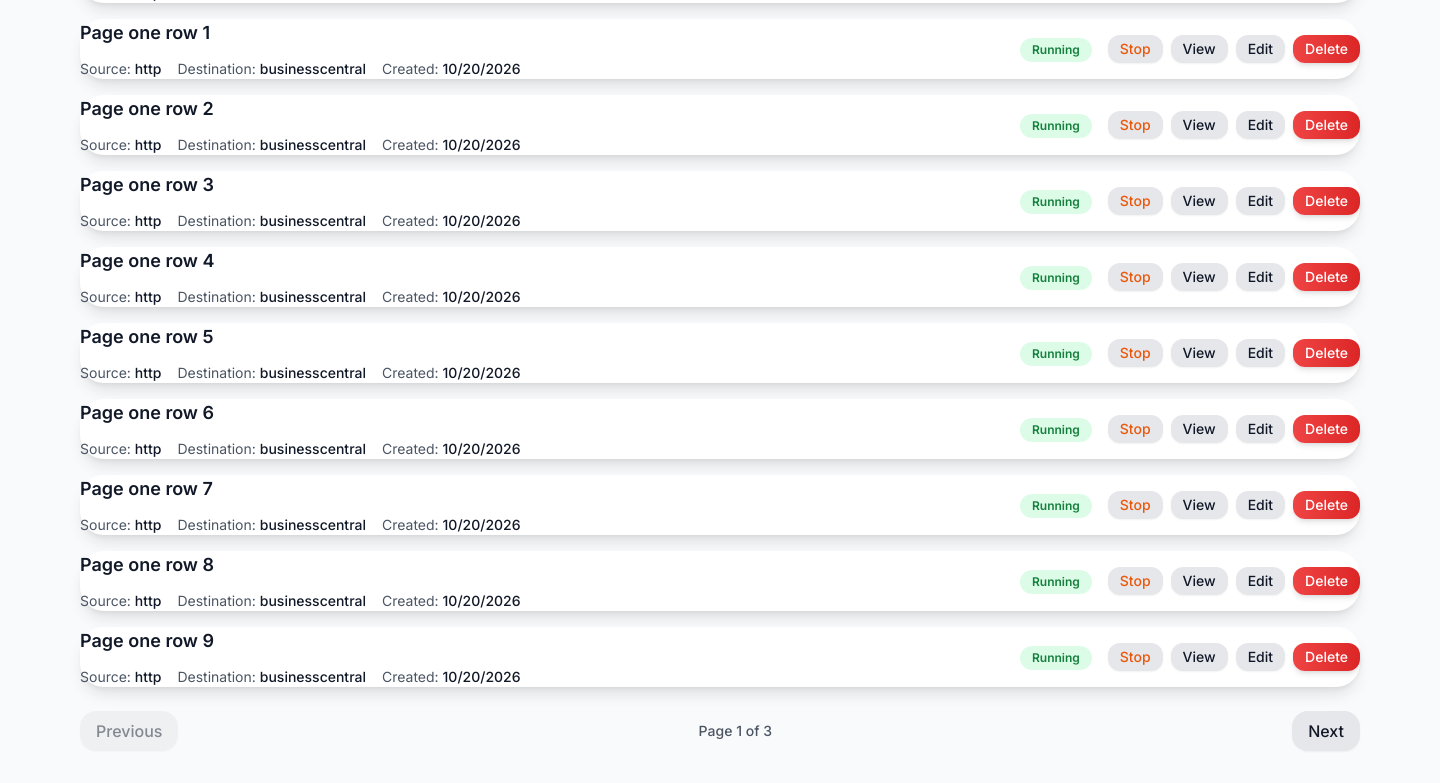
Test: ConnectionsList workspace switch race (#501) › keeps the newer page when an older page answers late in the same workspace
(page scrolled)
Expected: the text "Page 1 of 3" is shown, [699,721,772,741]
# Go to page 2, then back to page 1 before page 2 answers.
Click the button "Next": coordinates (1326, 731) [1292,711,1360,751]
(page scrolled)
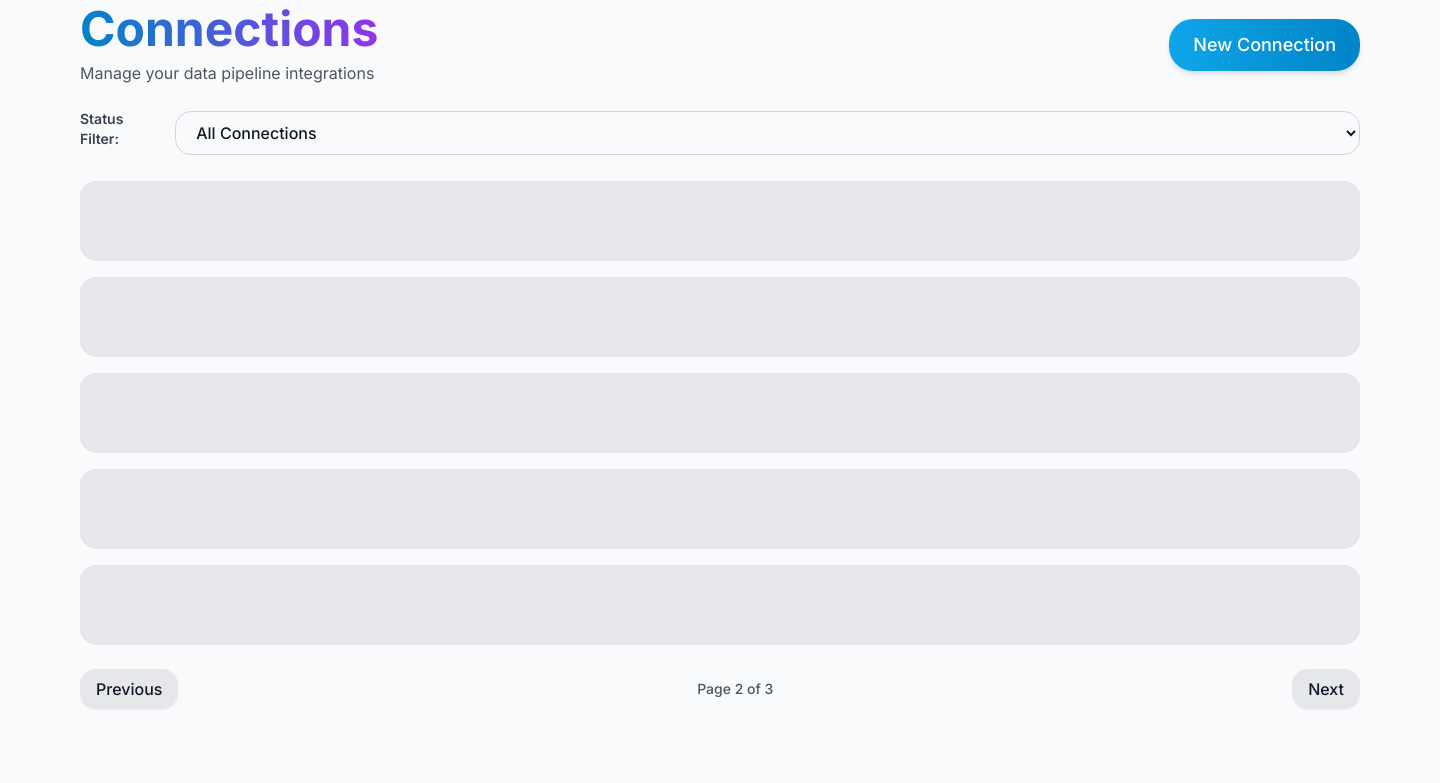
Click the button "Previous": coordinates (129, 689) [80,669,178,709]
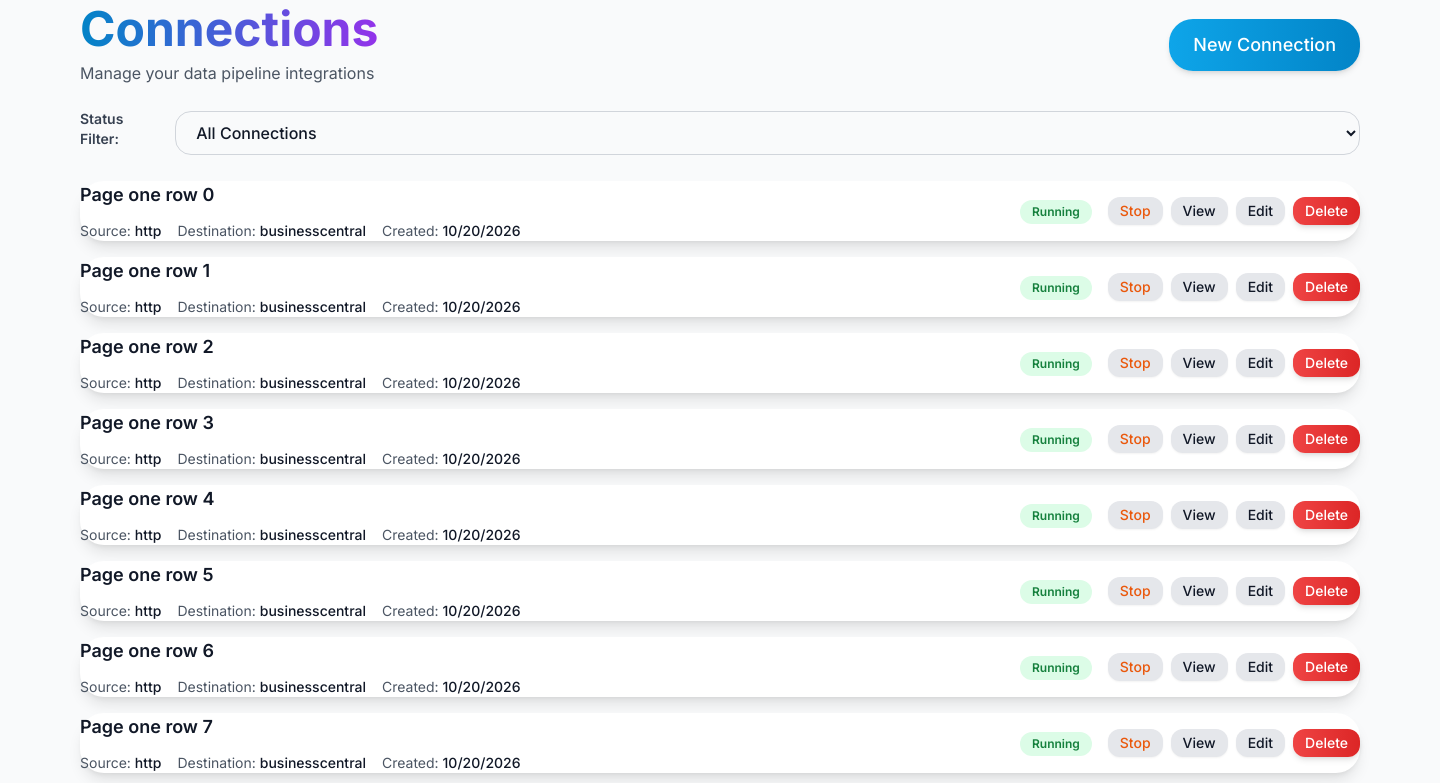
Now the heading "Page one row 0" is shown, box [80,184,214,205]
